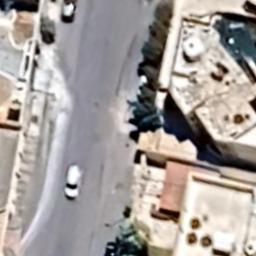SUV: (64, 163, 83, 199)
unknown: (60, 0, 78, 23)
